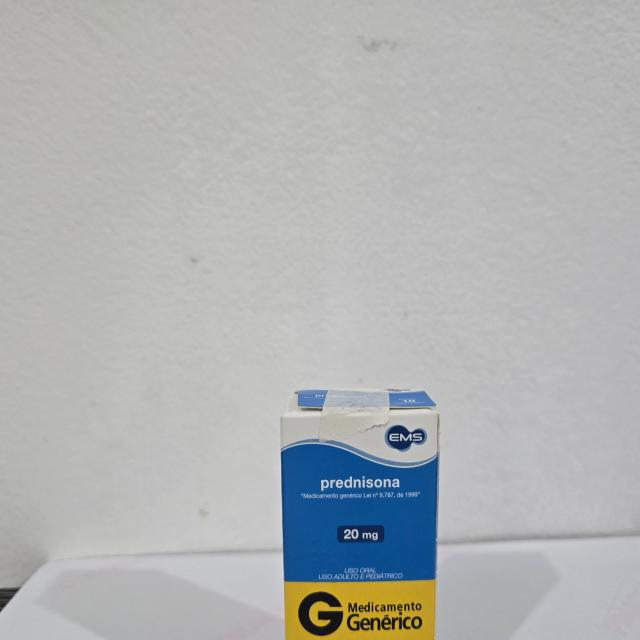prednisona: (275, 383, 444, 640)
